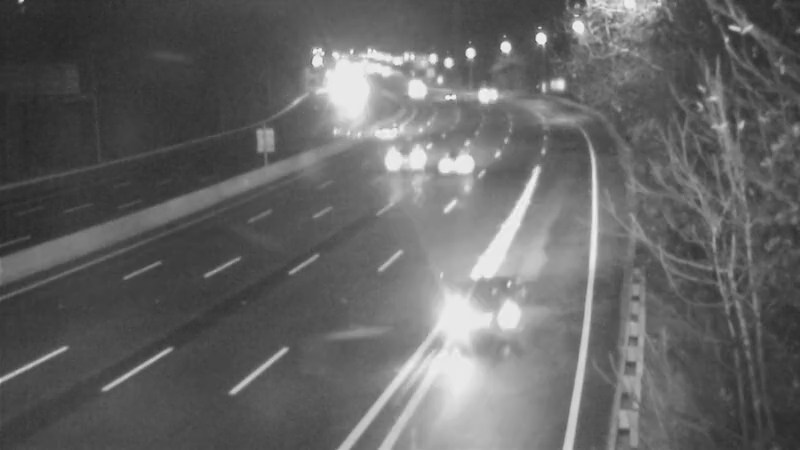vehicle: (428, 252, 538, 362), (366, 119, 446, 199), (420, 114, 500, 194), (463, 66, 513, 116), (391, 68, 441, 118), (425, 72, 475, 122), (361, 105, 411, 155)
